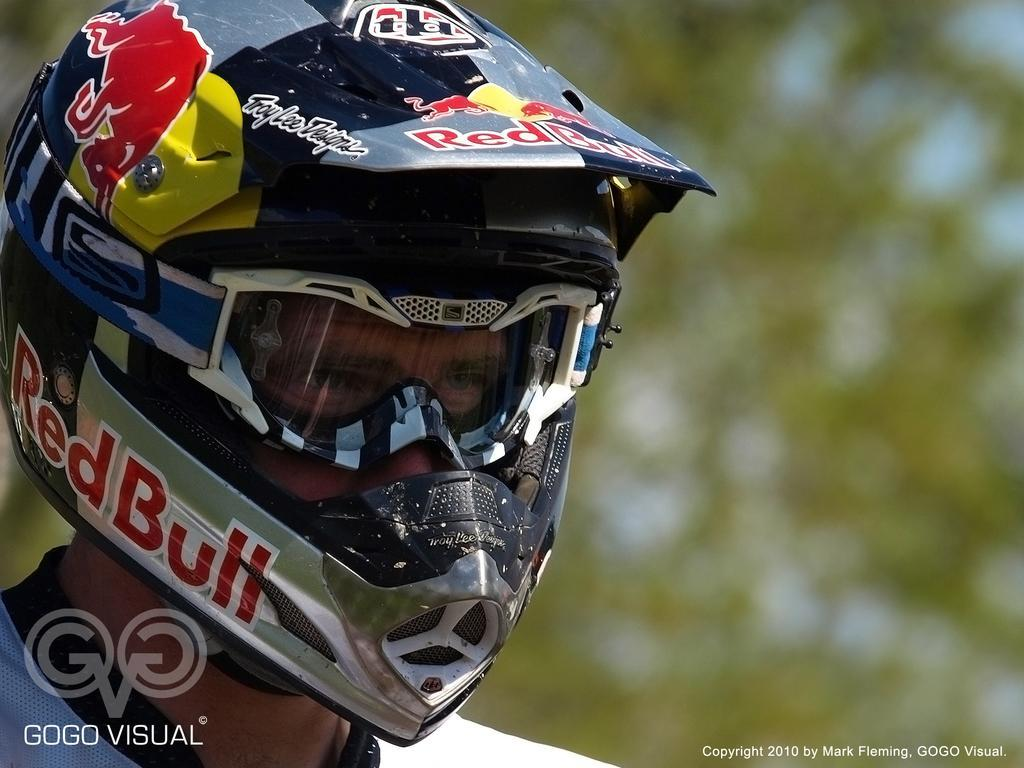helmet: (0, 0, 721, 752)
